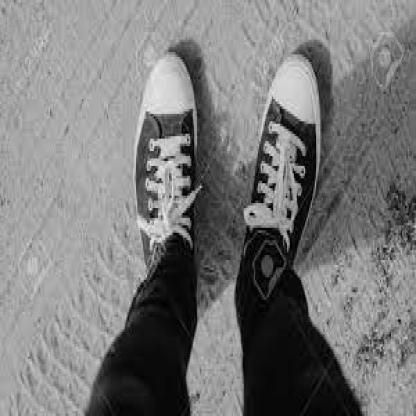ankle: (268, 232, 272, 238), (169, 248, 172, 254)
heel: (192, 276, 196, 283), (245, 249, 248, 256)
left_foot: (136, 56, 200, 286)
pinky: (151, 83, 157, 90), (312, 87, 315, 95)
right_foot: (243, 55, 322, 262)
toe: (182, 76, 188, 86), (282, 72, 286, 80)
